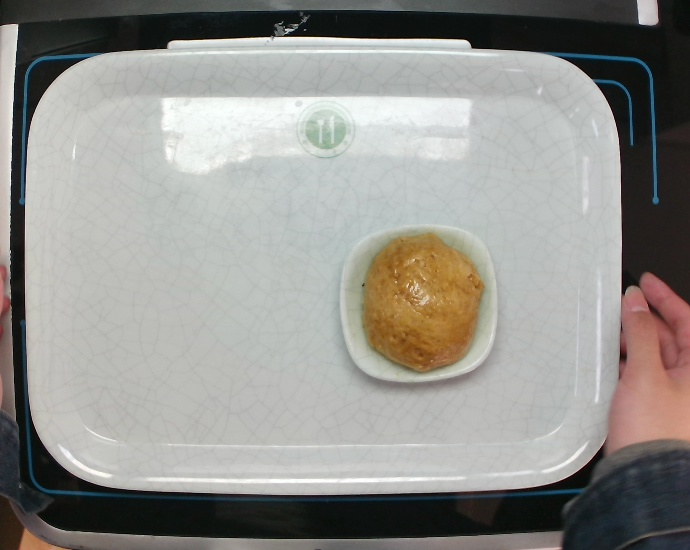JYsf-Si_Fang_Die: (328, 218, 504, 399)
